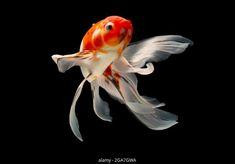goldfish: (52, 10, 193, 142)
